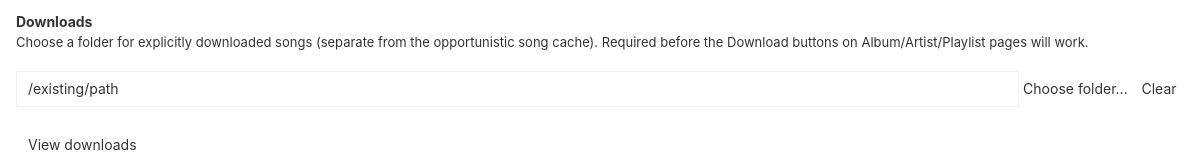
it: download folder setting UI (Fix 1) › Clear resets the download path via the dedicated clear channel, not the generic settings channel
Check: the field with test id "download-path-display" holds "/existing/path", box x1=16 y1=71 x2=1019 y2=107
Click the button with test id "download-path-clear" at x=1159, y=89, box x1=1132 y1=71 x2=1186 y2=107
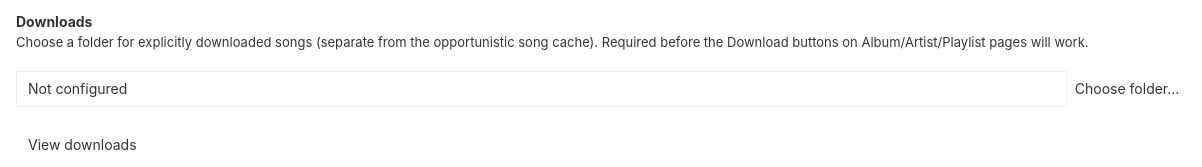
Check: the field with test id "download-path-display" holds "Not configured", box x1=16 y1=71 x2=1068 y2=107
